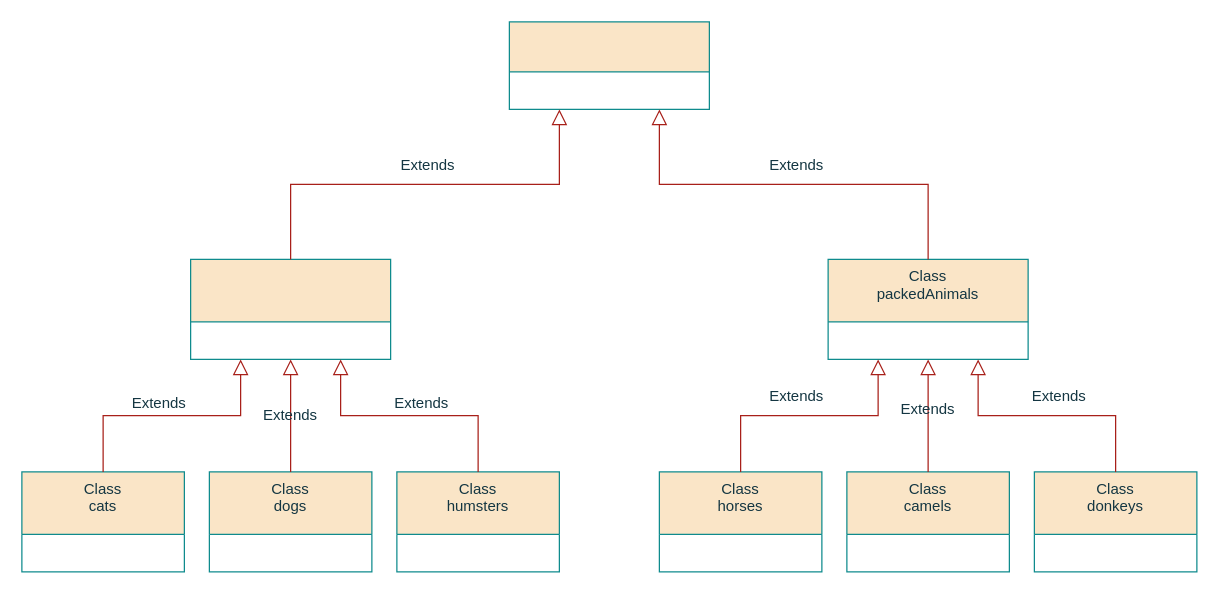
Some shapes in this 1219 by 594 pixel diagram are drawn without their labels. The shapes that lost their labels are listed below. From the top down, each one's centre as x and y in pixels, then its label:
At (x=608, y=65): "Class animals".
At (x=290, y=308): "Class homeAnimals".
